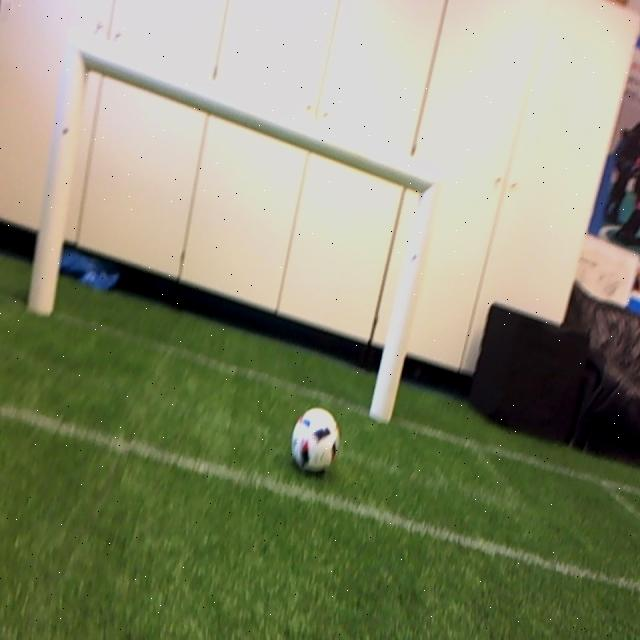ball: (291, 406, 338, 476)
goalpost: (367, 180, 444, 424), (26, 42, 88, 314)
